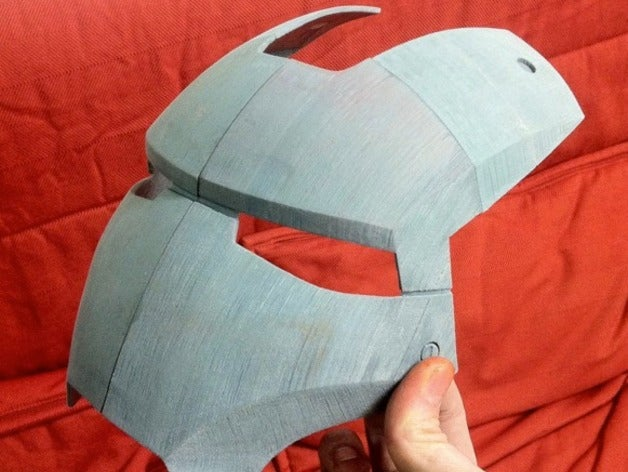Good: (52, 1, 590, 472)
